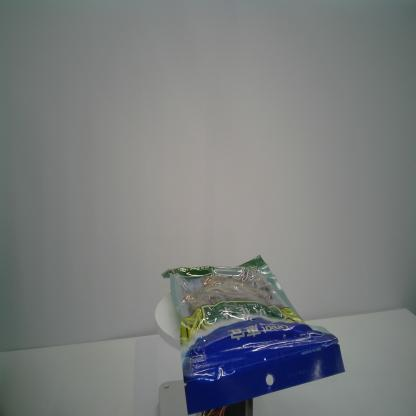Dried Food: (160, 254, 346, 415)
